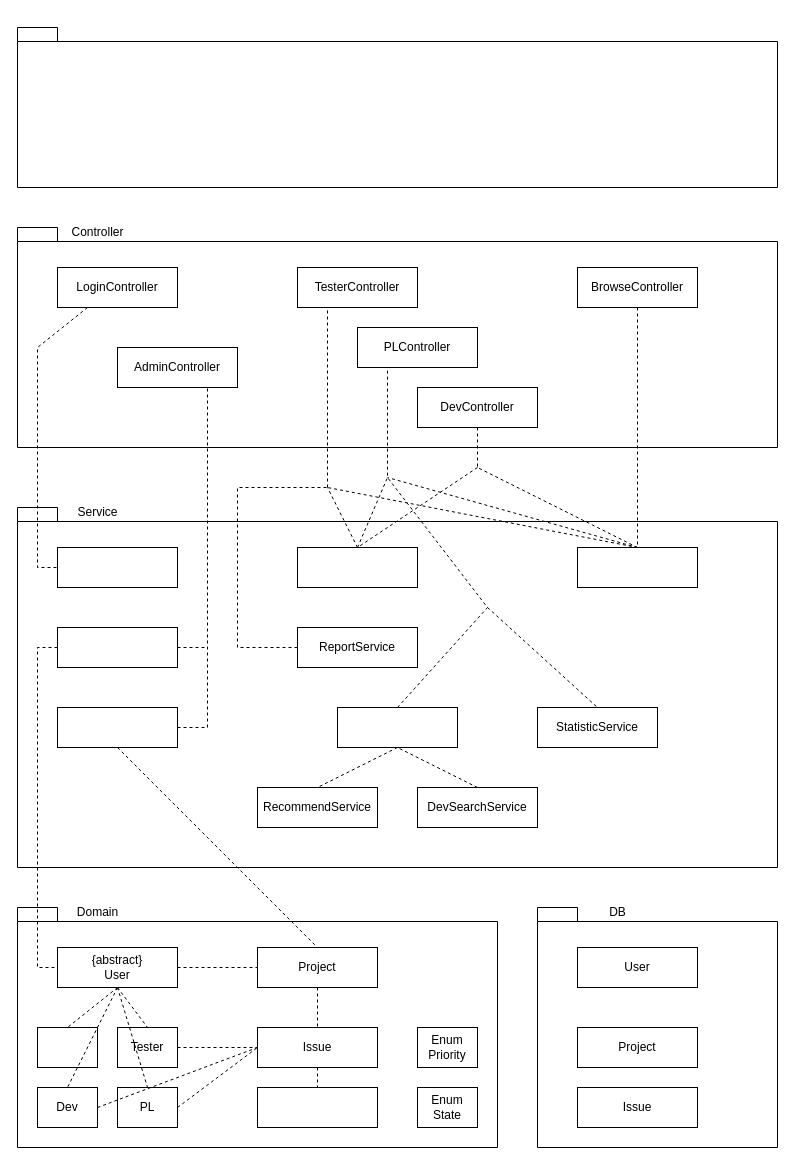
Some shapes in this 795 by 1165 pixel diagram are drawn without their labels. The centre of each missing label's shape, as x and y in pixels:
"AccountService" belongs at point 117,647.
"Admin" belongs at point 67,1047.
"AssignService" belongs at point 397,727.
"Comment" belongs at point 317,1107.
"LoginService" belongs at point 117,567.
"Project Service" belongs at point 117,727.
"UI" belongs at point 397,107.
"{interface} IssueSearchService" belongs at point 637,567.
"{interface} UpdateService" belongs at point 357,567.
